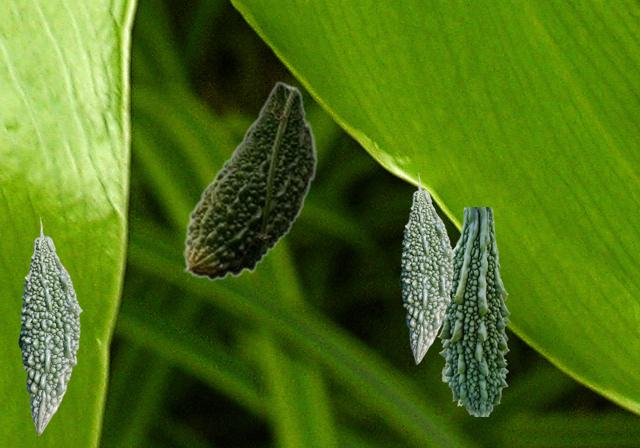ampalaya: (183, 81, 317, 280), (437, 207, 509, 415), (18, 217, 81, 434), (399, 173, 454, 363)
